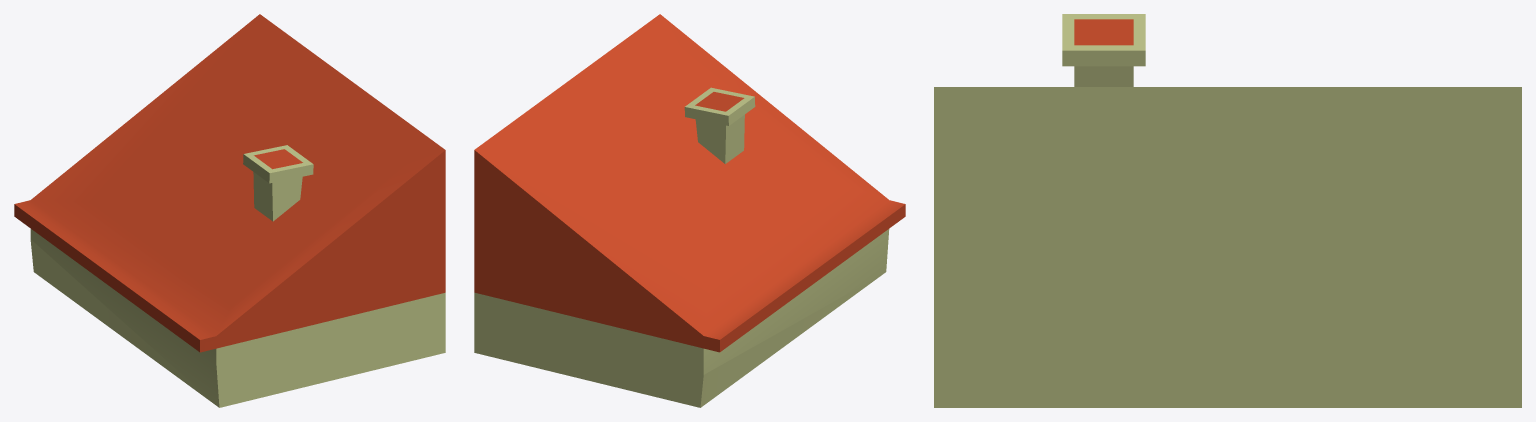
Rendered from wallroof.fbx.
3 renders of one model, left to right at view 1: azimuth 30°, elevation 25°; view 2: azimuth 150°, elevation 25°; view 3: azimuth 270°, elevation 25°, orthographic. The views are drawn at different scales.
Parts seen in each view (by area): view 1: Cube; view 2: Cube; view 3: Cube.
Part boxes in pixels (x1=…): Cube: x1=14, y1=14, x2=445, y2=407; Cube: x1=474, y1=14, x2=905, y2=407; Cube: x1=934, y1=14, x2=1521, y2=407.
Size of the model in its own units: 152 by 120 by 199.
